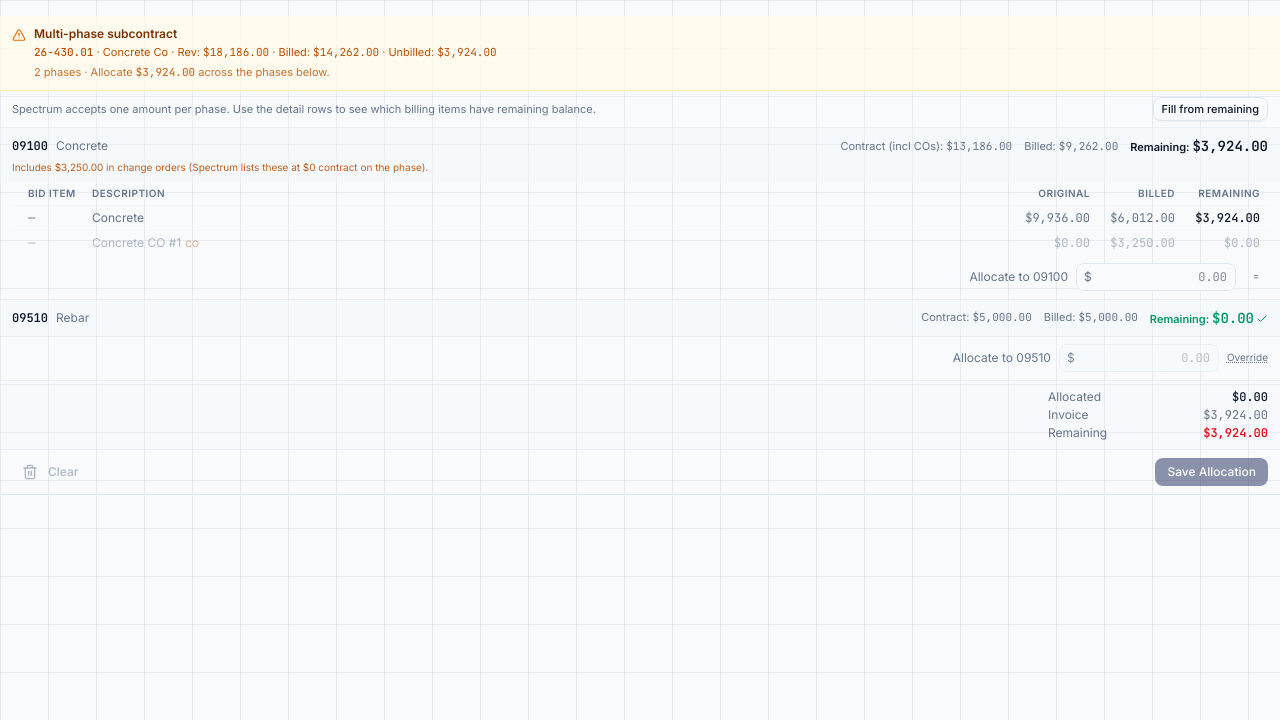
it: MultiPhaseAllocationPanel › CO-corrected math + warning tiers › Fill from remaining seeds 09100 with the whole invoice and never auto-saves
Click the button with test id "fill-from-remaining" at (1210, 109), box [1153,97,1268,121]
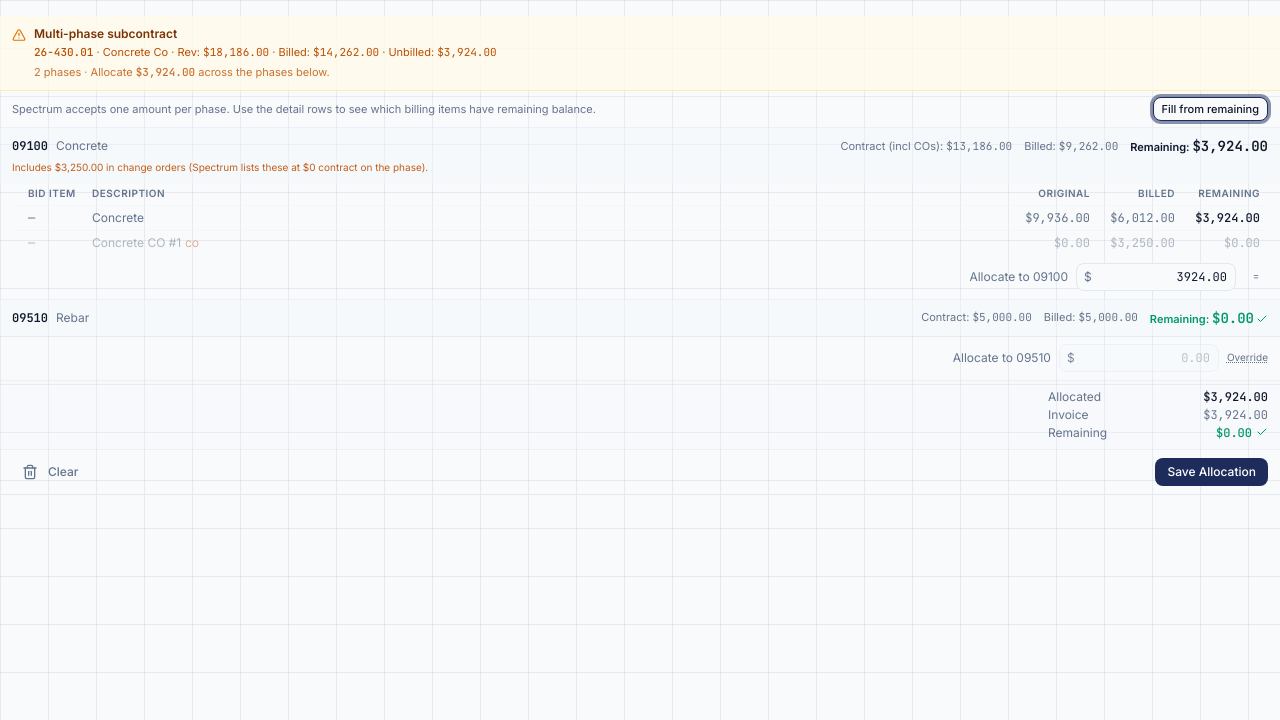
Now the field named "Allocate to 09100" holds "3924.00", box [1076,263,1236,291]
